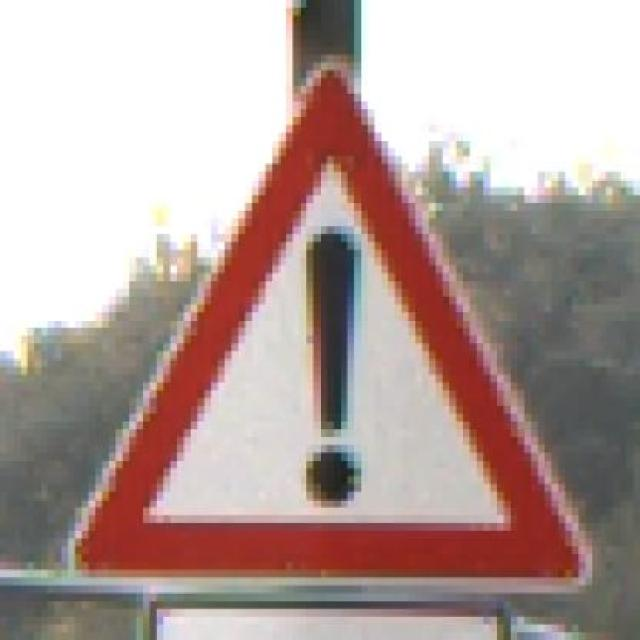Attention Please-: (68, 62, 606, 608)
